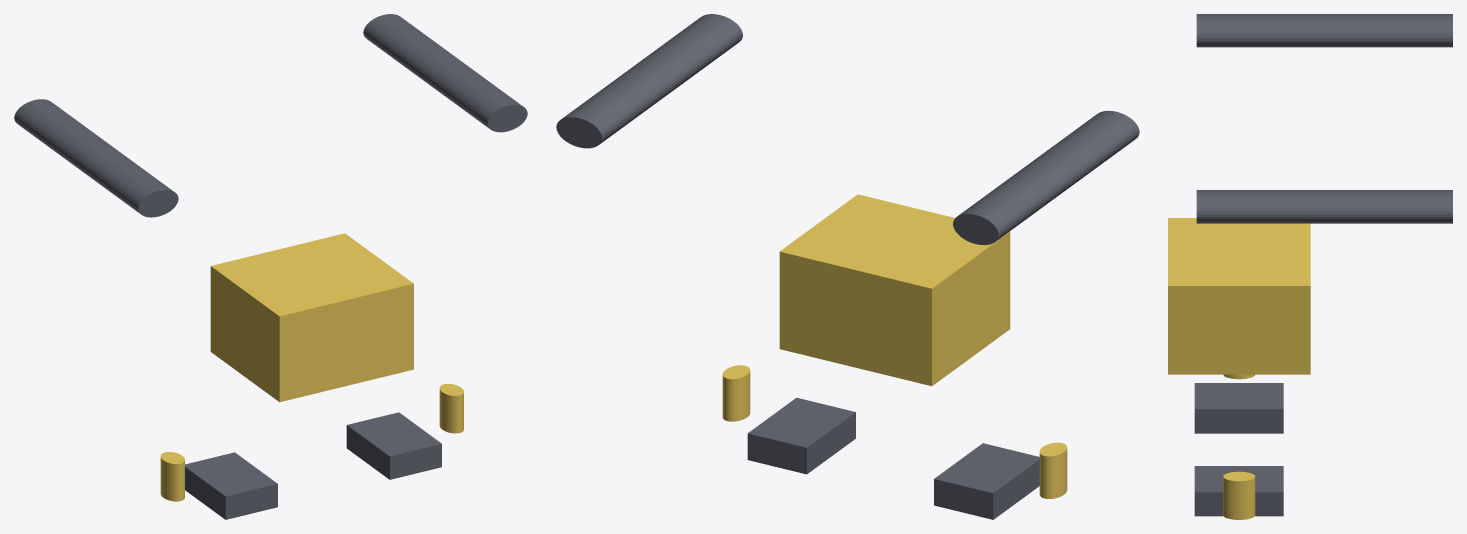
The model's file is CO_AiravataWalker_LOD2.glb.
3 renders of one model, left to right at view 1: azimuth 30°, elevation 25°; view 2: azimuth 150°, elevation 25°; view 3: azimuth 270°, elevation 25°, orthographic. The views are drawn at different scales.
Parts seen in each view (by area): view 1: Cube.002, Cylinder.002, Cylinder.003, Cube.001, Cube, Cylinder, Cylinder.001; view 2: Cube.002, Cylinder.003, Cylinder.002, Cube.001, Cube, Cylinder.001, Cylinder; view 3: Cube.002, Cylinder.003, Cylinder.002, Cube, Cube.001, Cylinder.001.
Part boxes in pixels (x1,y1,x2,y2): Cube.002: (210,233,413,402); Cylinder.002: (14,99,178,217); Cylinder.003: (363,14,527,132); Cube.001: (346,412,441,479); Cube: (185,452,277,519); Cylinder: (160,452,184,501); Cylinder.001: (439,383,463,433); Cube.002: (779,194,1010,386); Cylinder.003: (556,14,742,148); Cylinder.002: (953,110,1139,245); Cube.001: (747,397,855,474); Cube: (934,443,1039,519); Cylinder.001: (722,365,750,421); Cylinder: (1039,442,1067,498); Cube.002: (1168,218,1310,374); Cylinder.003: (1196,190,1452,223); Cylinder.002: (1196,14,1452,47); Cube: (1194,383,1283,433); Cube.001: (1194,466,1283,516); Cylinder.001: (1223,471,1255,519).
Size of what is drawn, in the model's own units: 5.22 by 4.41 by 3.2.
